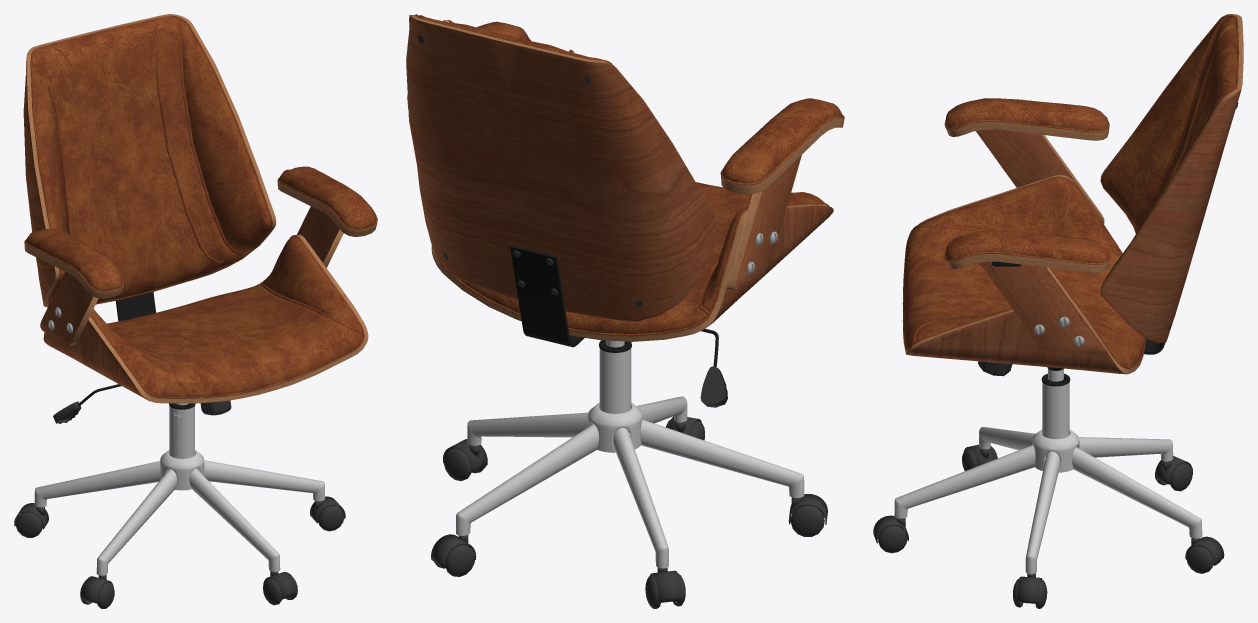
The model's file is poltrona.glb.
3 renders of one model, left to right at view 1: azimuth 30°, elevation 25°; view 2: azimuth 150°, elevation 25°; view 3: azimuth 270°, elevation 25°, orthographic. The views are drawn at different scales.
Parts seen in each view (by area): view 1: G-Object.061, G-Object.080, G-Object.078, G-Object.077, G-Object.118, G-Object.083, G-Object.116, G-Object.082, G-Object.092, G-Object.112, G-Object.114, C-Componente#69.001 (+13 smaller); view 2: C-Componente#69.001, G-Object.080, G-Object.078, G-Difference.005, G-Object.114, G-Object.110, G-Object.092, G-Object.116, G-Object.118, G-Object.082, G-Object.083, G-Object.107 (+12 smaller); view 3: G-Object.080, C-Componente#69.001, G-Object.061, G-Object.078, G-Object.082, G-Object.086, G-Object.092, G-Object.112, G-Object.110, G-Object.116, G-Object.118, G-Object.107 (+13 smaller).
Boxes of the visible parts, x1,y1,x2,y2 form: G-Object.061: [32, 15, 271, 303]; G-Object.080: [91, 236, 364, 397]; G-Object.078: [25, 166, 376, 291]; G-Object.077: [26, 14, 276, 307]; G-Object.118: [34, 461, 168, 507]; G-Object.083: [88, 234, 368, 403]; G-Object.116: [197, 460, 325, 501]; G-Object.082: [43, 320, 149, 401]; G-Object.092: [40, 272, 93, 345]; G-Object.112: [189, 468, 280, 571]; G-Object.114: [96, 469, 177, 575]; C-Componente#69.001: [23, 55, 55, 305]; C-Componente#69.001: [406, 15, 718, 321]; G-Object.080: [459, 182, 825, 334]; G-Object.078: [477, 21, 842, 183]; G-Difference.005: [510, 245, 584, 347]; G-Object.114: [640, 419, 804, 497]; G-Object.110: [456, 424, 599, 535]; G-Object.092: [735, 155, 801, 292]; G-Object.116: [467, 412, 593, 445]; G-Object.118: [613, 427, 668, 568]; G-Object.082: [702, 205, 833, 330]; G-Object.083: [431, 204, 829, 341]; G-Object.107: [599, 348, 631, 413]; G-Object.080: [903, 178, 1145, 366]; C-Componente#69.001: [1102, 62, 1243, 343]; G-Object.061: [1100, 16, 1238, 288]; G-Object.078: [945, 98, 1108, 263]; G-Object.082: [907, 311, 1126, 374]; G-Object.086: [979, 261, 1104, 354]; G-Object.092: [976, 129, 1104, 223]; G-Object.112: [894, 445, 1035, 518]; G-Object.110: [1072, 447, 1202, 538]; G-Object.116: [1025, 451, 1060, 574]; G-Object.118: [1076, 437, 1173, 461]; G-Object.107: [1042, 382, 1069, 438].
Bounding box in the file's own units: 0.6302 × 0.9516 × 0.6542.
7 materials, 3 textured.
